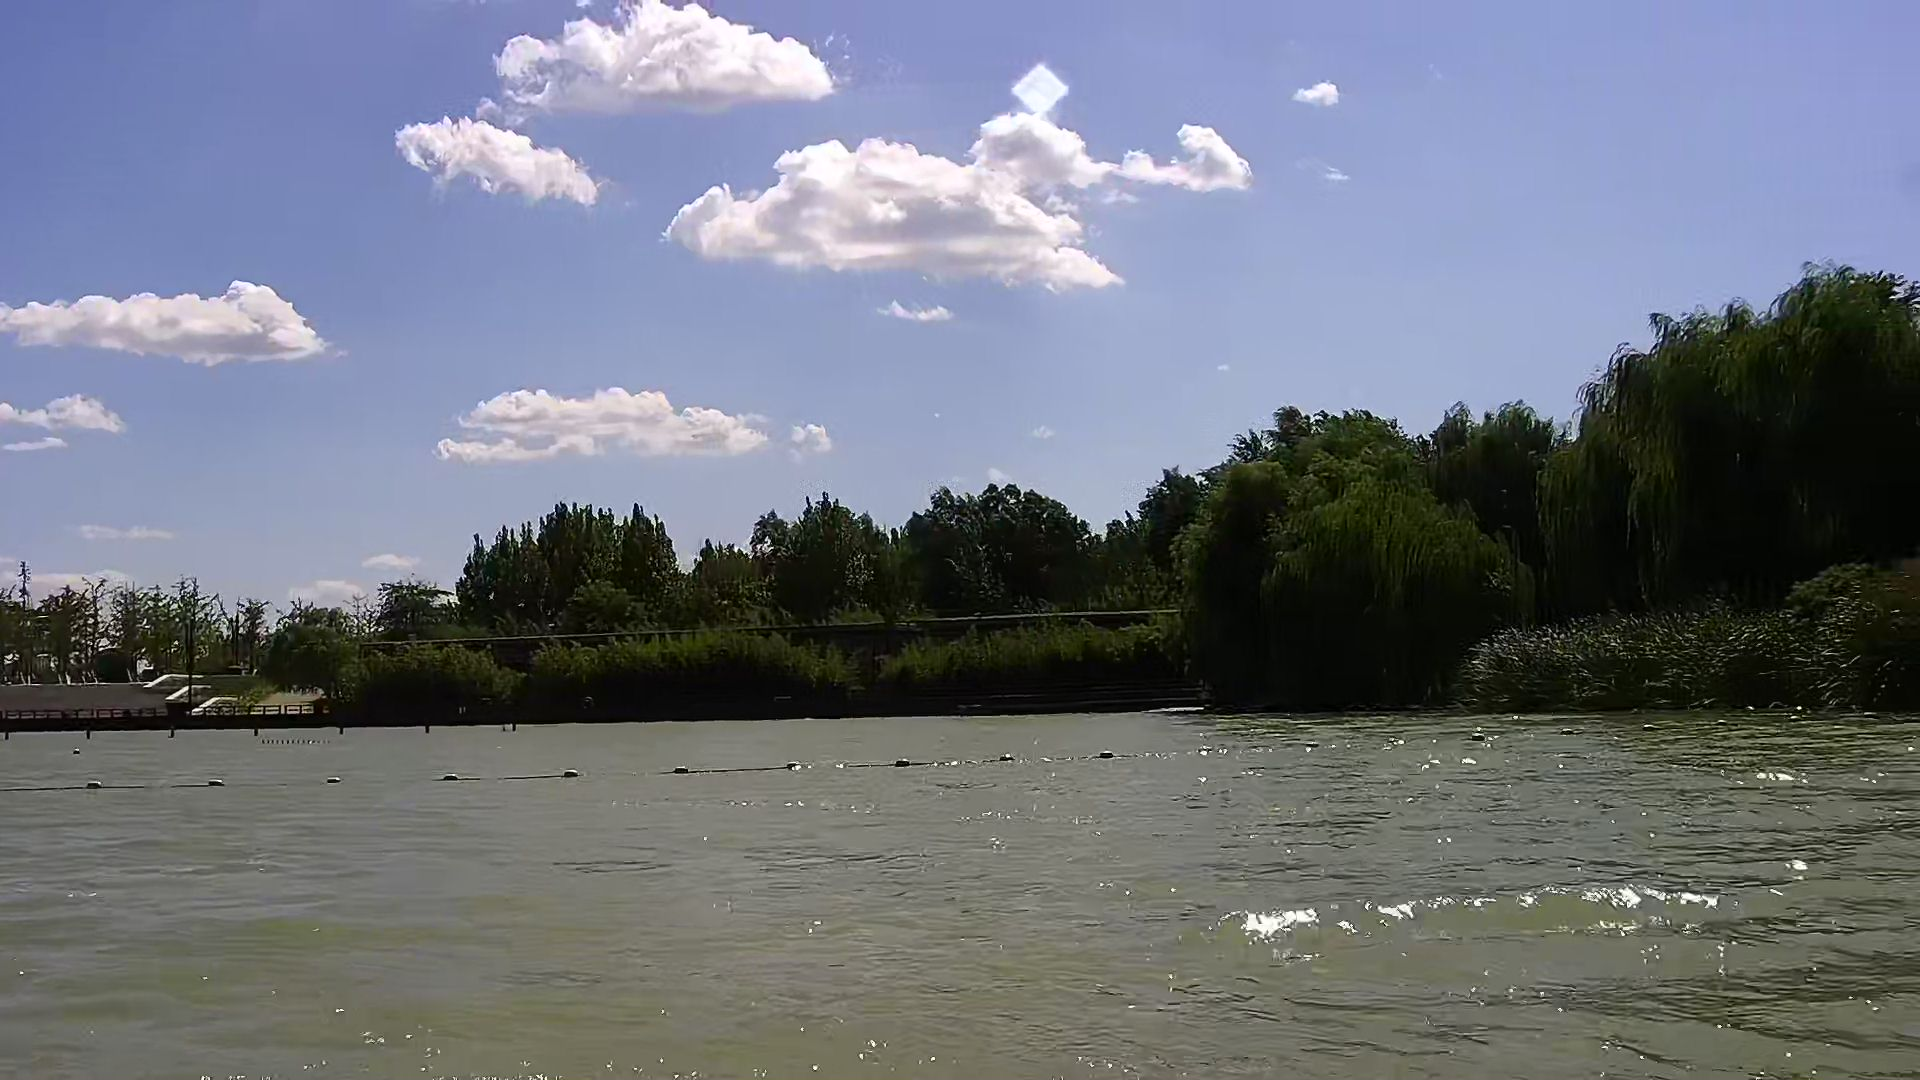ball: (1092, 740, 1124, 767), (560, 764, 589, 789), (887, 752, 918, 775), (996, 745, 1019, 771), (198, 775, 233, 791), (665, 764, 696, 781), (84, 775, 107, 793), (1469, 731, 1491, 744)
harbor: (1, 680, 361, 729)
